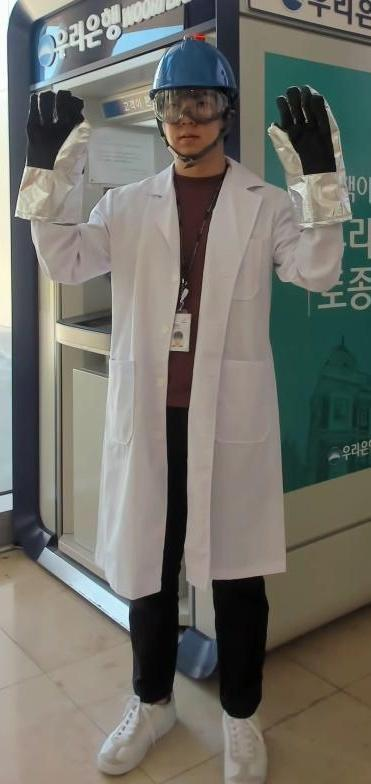lab_coat: (99, 190, 289, 586)
